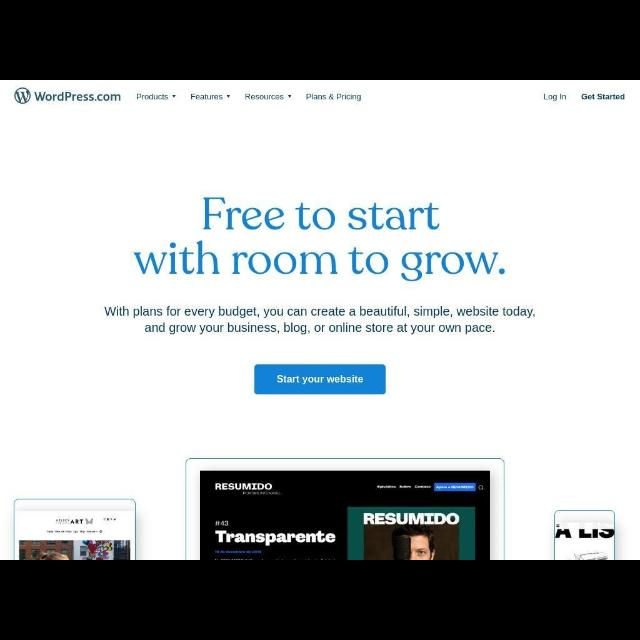backgroundimage: (3, 81, 634, 558)
icon: (288, 94, 292, 98), (227, 94, 231, 98), (172, 94, 175, 98)
image: (15, 88, 121, 106)
spinner: (244, 94, 294, 102), (139, 94, 177, 102), (191, 94, 233, 100)
text: (135, 198, 505, 282), (104, 306, 538, 332), (307, 93, 361, 103), (581, 93, 625, 101), (245, 94, 283, 100), (544, 92, 566, 101), (138, 94, 168, 100), (192, 94, 222, 100)
textbutton: (256, 364, 386, 394)
toolbar: (2, 82, 634, 111)
